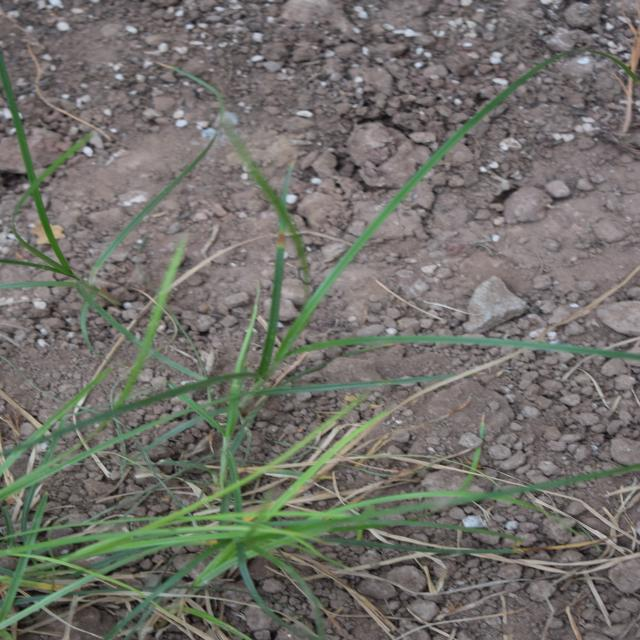sedge: (173, 31, 520, 508)
